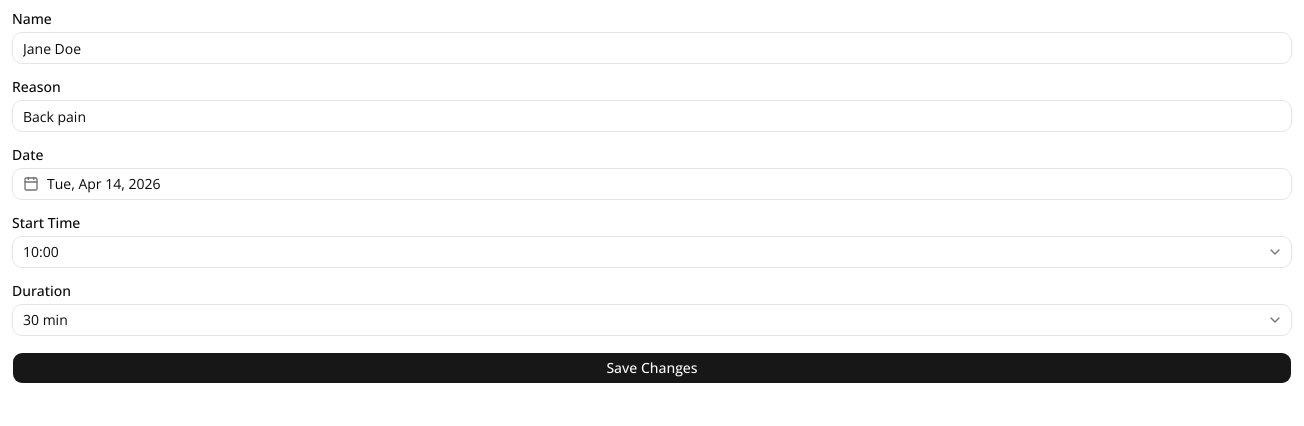
it: BookingForm › edit mode (booking prop provided) › validation in edit mode › shows name error when name is cleared before submit
Clear the field labelled "Name" at (652, 48), box left=12, top=32, right=1292, bottom=64
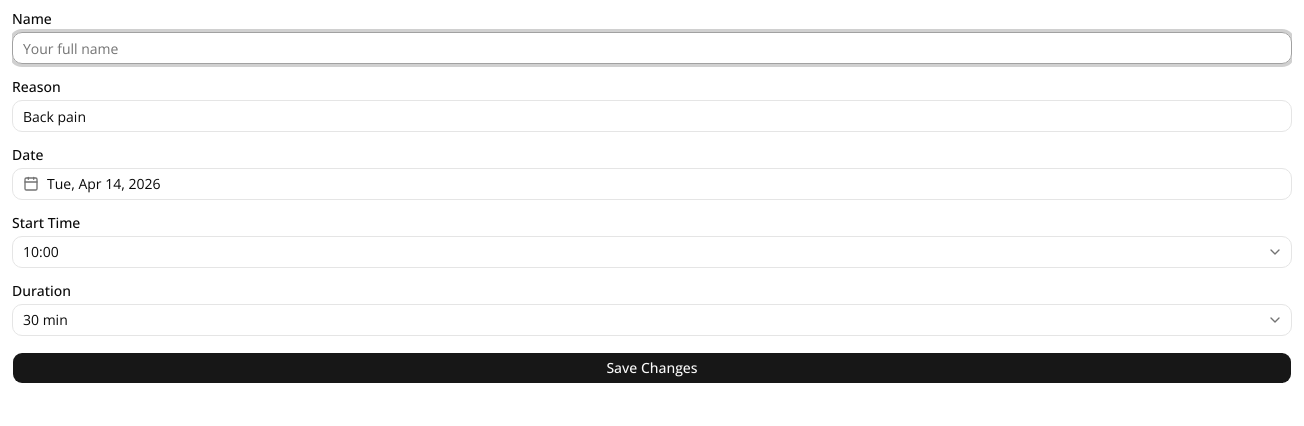
Click the button "Save Changes" at (652, 368), box left=12, top=352, right=1292, bottom=384
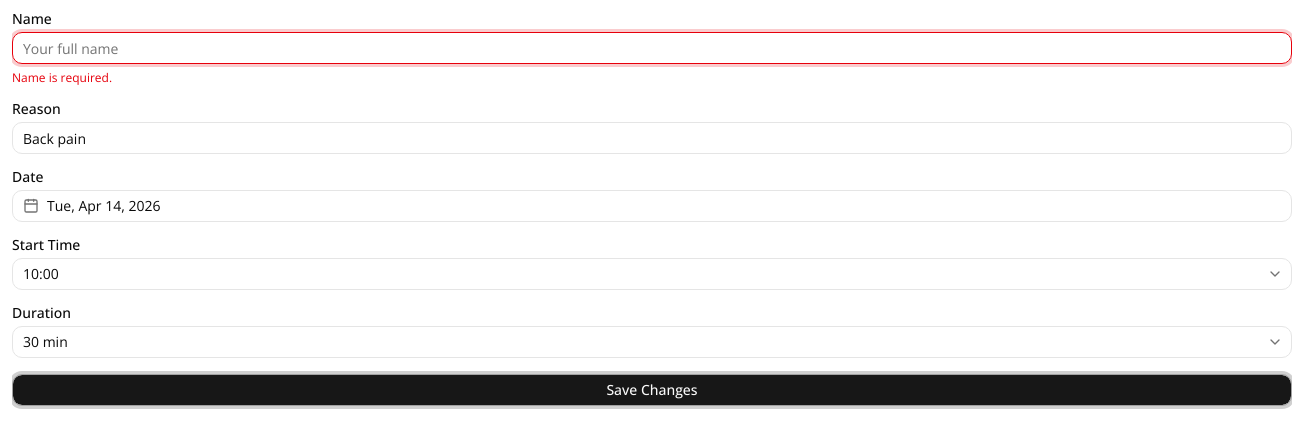
Now the message reads "Name is required.", box left=12, top=69, right=112, bottom=86
